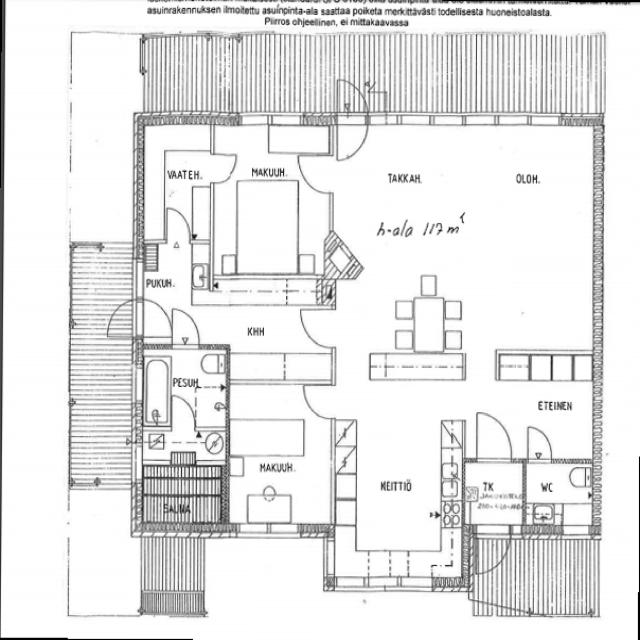door: (139, 420, 227, 474), (334, 78, 372, 162), (164, 378, 216, 430), (472, 409, 516, 465), (296, 306, 336, 350), (475, 532, 512, 577), (139, 296, 174, 341), (170, 304, 202, 350), (296, 153, 331, 195), (300, 380, 336, 420), (523, 423, 556, 465), (167, 392, 199, 433), (105, 298, 135, 340), (162, 204, 192, 243), (208, 153, 239, 186)
window: (368, 107, 470, 132), (489, 111, 567, 130), (233, 521, 303, 541), (131, 251, 146, 302)
zone: (331, 410, 463, 583), (226, 384, 336, 529), (162, 349, 228, 433), (524, 461, 596, 536), (139, 426, 227, 477), (464, 461, 526, 532), (266, 120, 334, 160), (142, 354, 172, 432), (474, 531, 513, 576)
